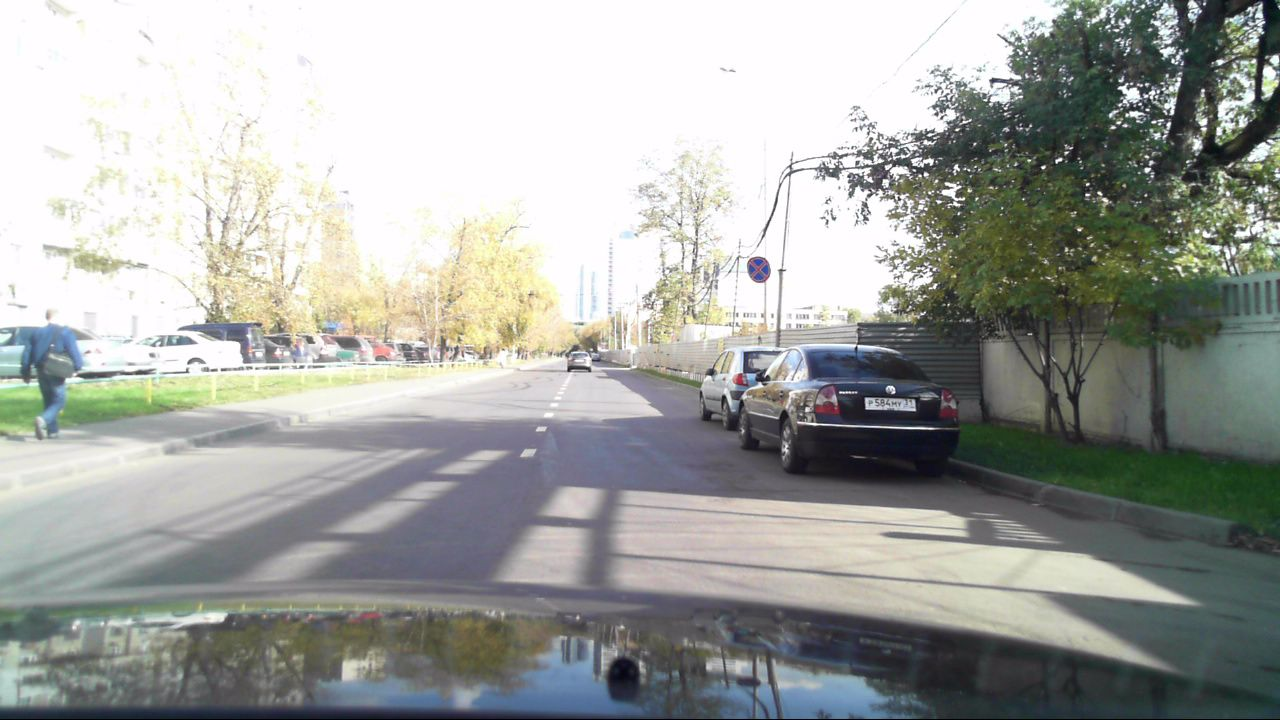No Parking: (746, 256, 772, 284)
